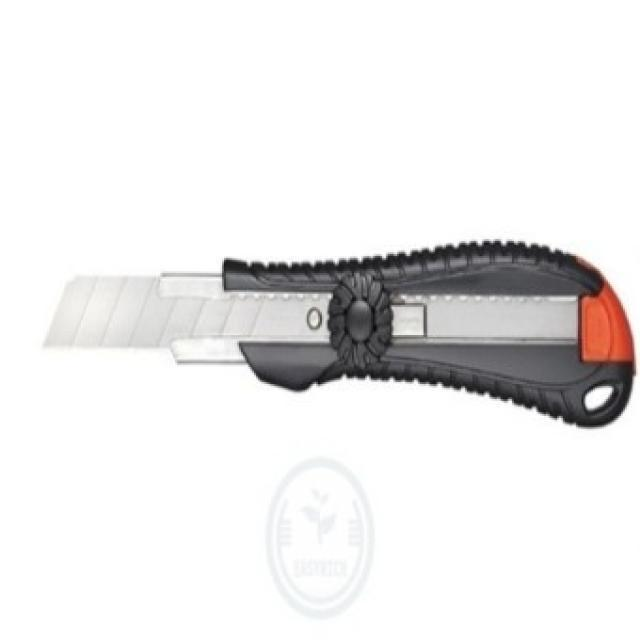cutter: (34, 210, 640, 442)
